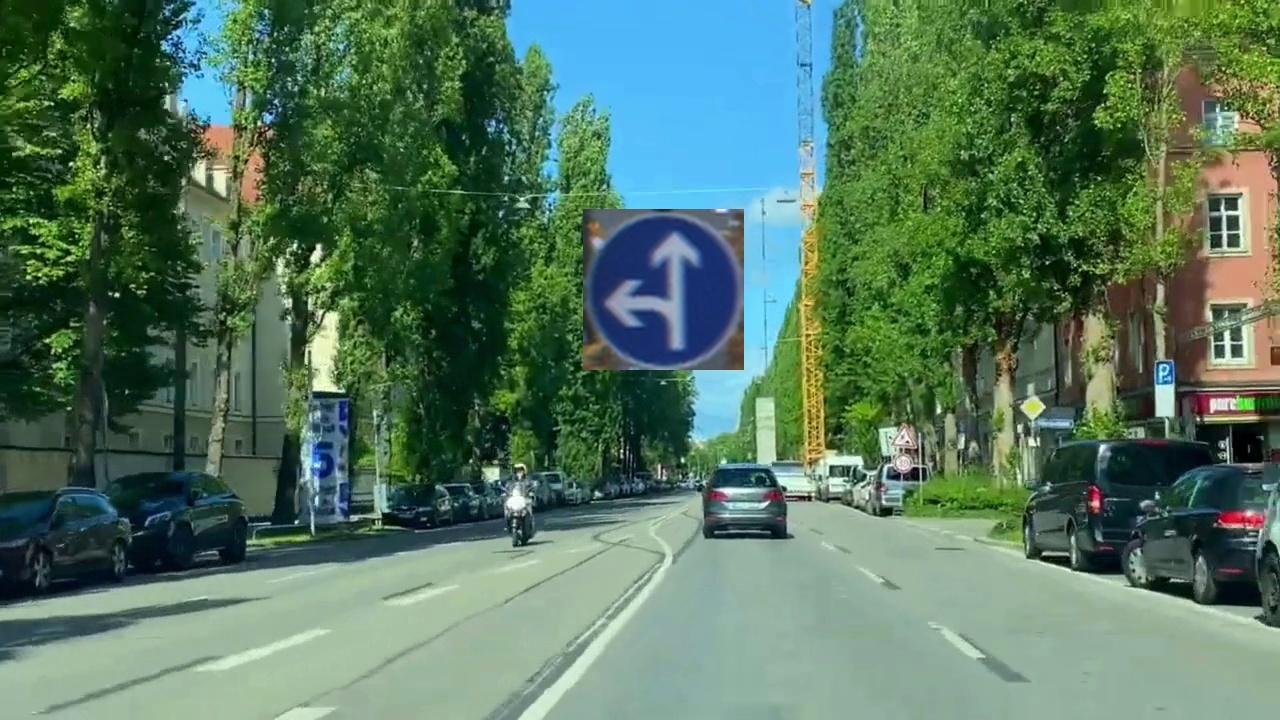Straight/left: (583, 209, 744, 370)
